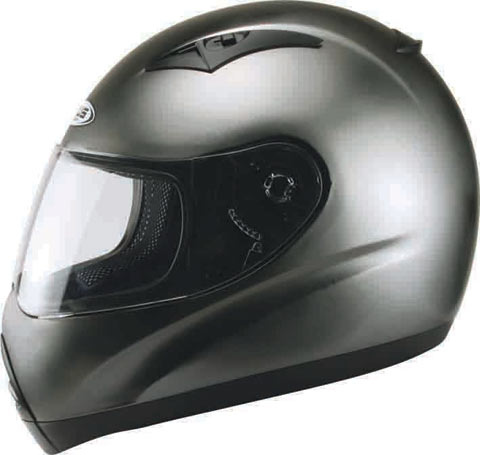helmet: (6, 7, 468, 398)
